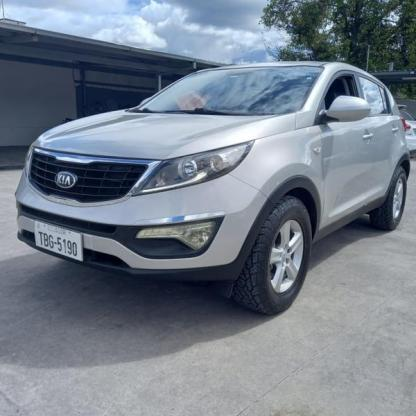Placa: (30, 220, 85, 262)
